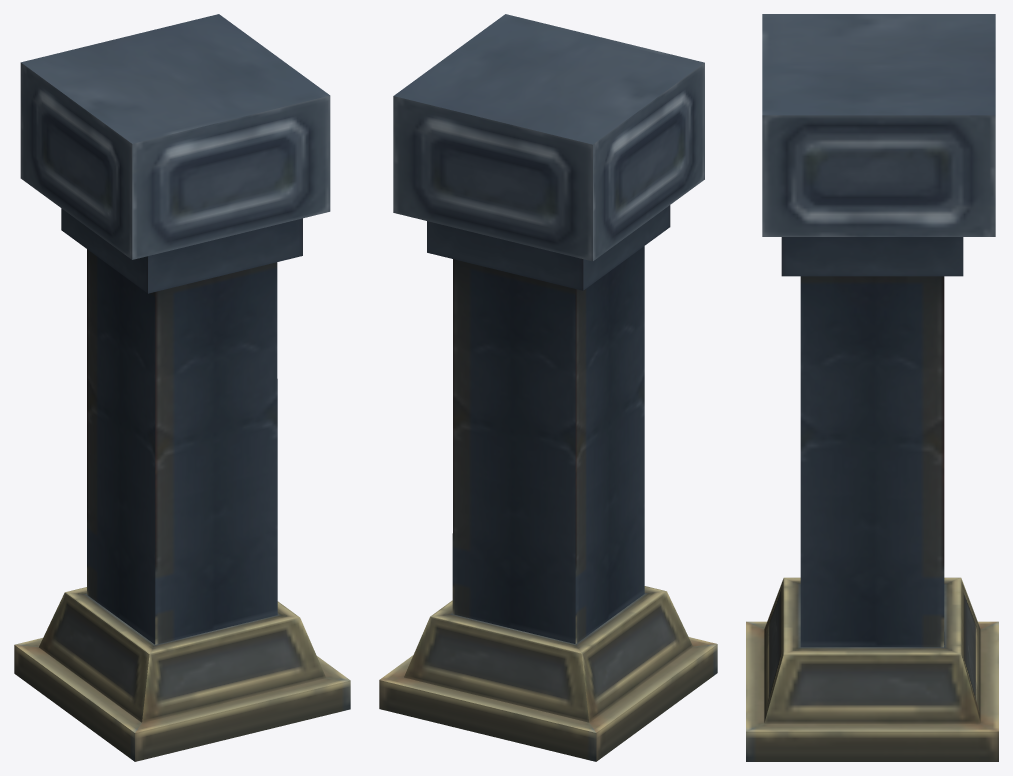
File: baobian_08.FBX
The picture shows the model from 3 angles, left to right: view 1: azimuth 30°, elevation 25°; view 2: azimuth 150°, elevation 25°; view 3: azimuth 270°, elevation 25°; orthographic projection. The views are drawn at different scales.
Parts seen in each view (by area): view 1: Object035; view 2: Object035; view 3: Object035.
Part boxes in pixels (x1,y1,x2,y2): Object035: (14, 14, 350, 761); Object035: (379, 14, 717, 761); Object035: (746, 14, 998, 761).
Size of the model in its own units: 75.15 by 203 by 72.88.
